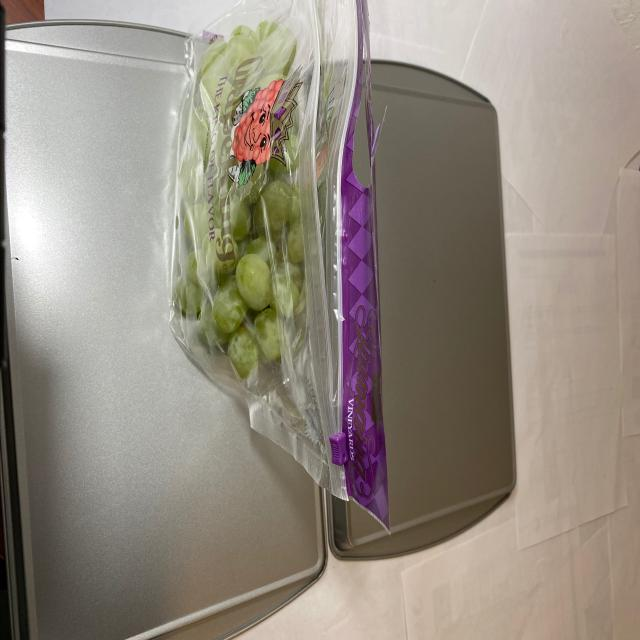grapes: (180, 22, 310, 423)
